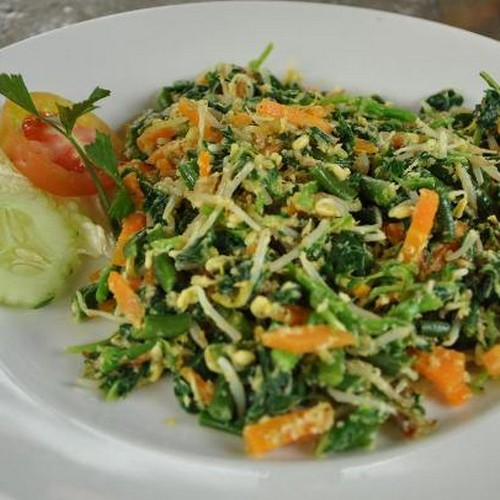lawar: (144, 78, 484, 427)
